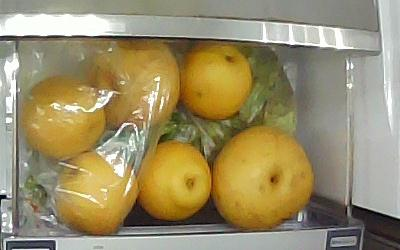pear: (212, 127, 314, 229), (137, 141, 212, 220), (179, 43, 254, 121)
pear_vinyl: (91, 41, 181, 130), (20, 74, 106, 162), (54, 153, 140, 236)
